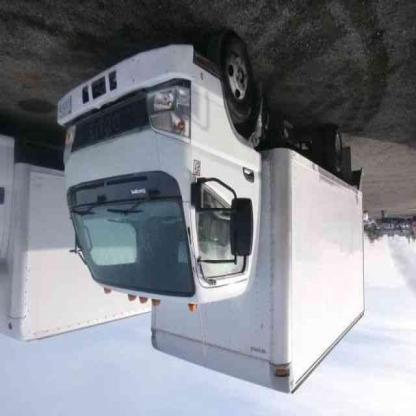truck: (56, 35, 366, 394)
